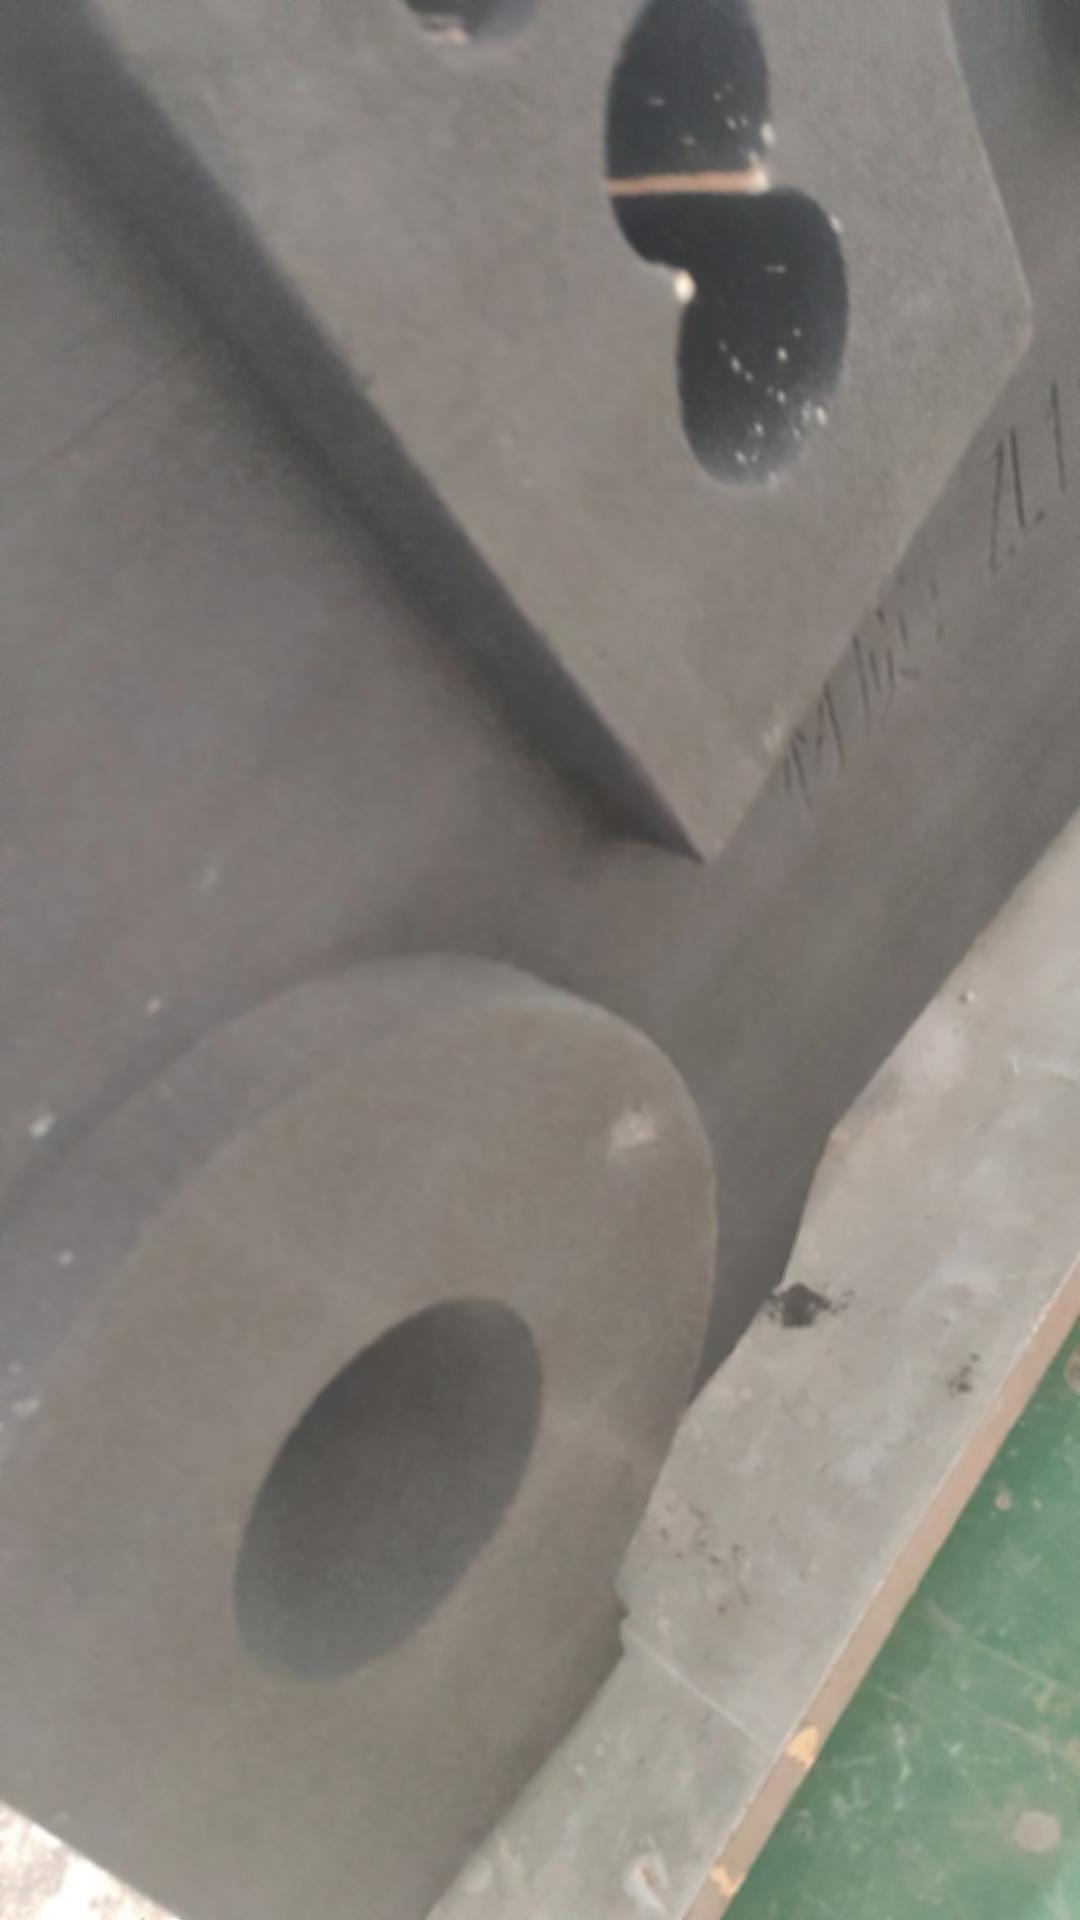pouring hole: (229, 1295, 543, 1683)
